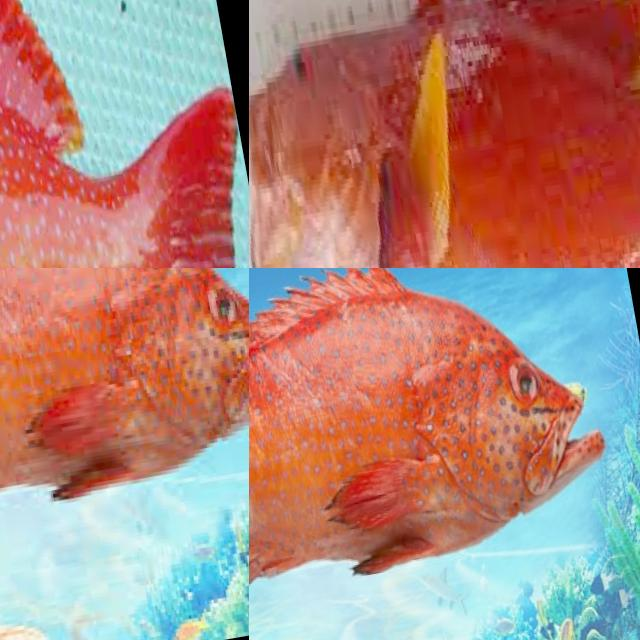Leopard coral grouper: (249, 268, 640, 640), (249, 0, 640, 268), (0, 268, 249, 574), (0, 0, 249, 268)
